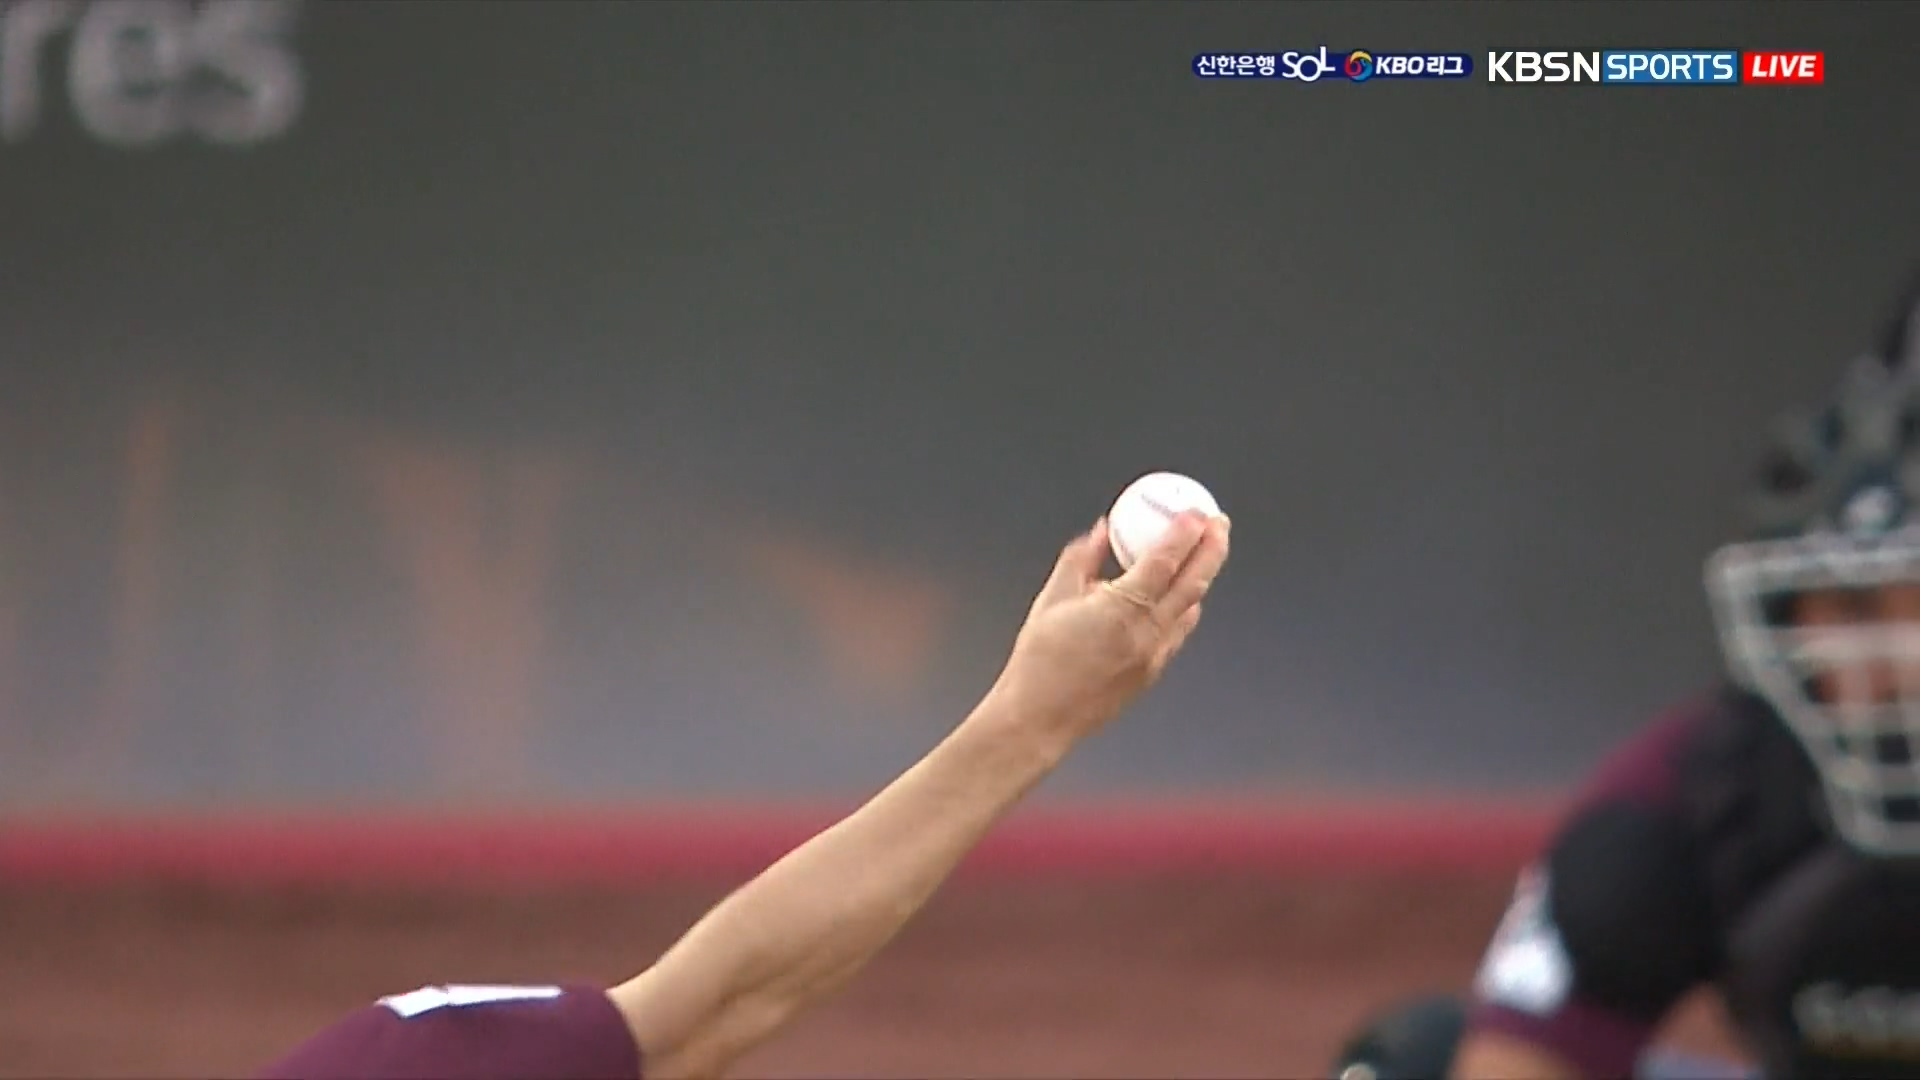zoomin_hand: (667, 443, 1257, 1065)
